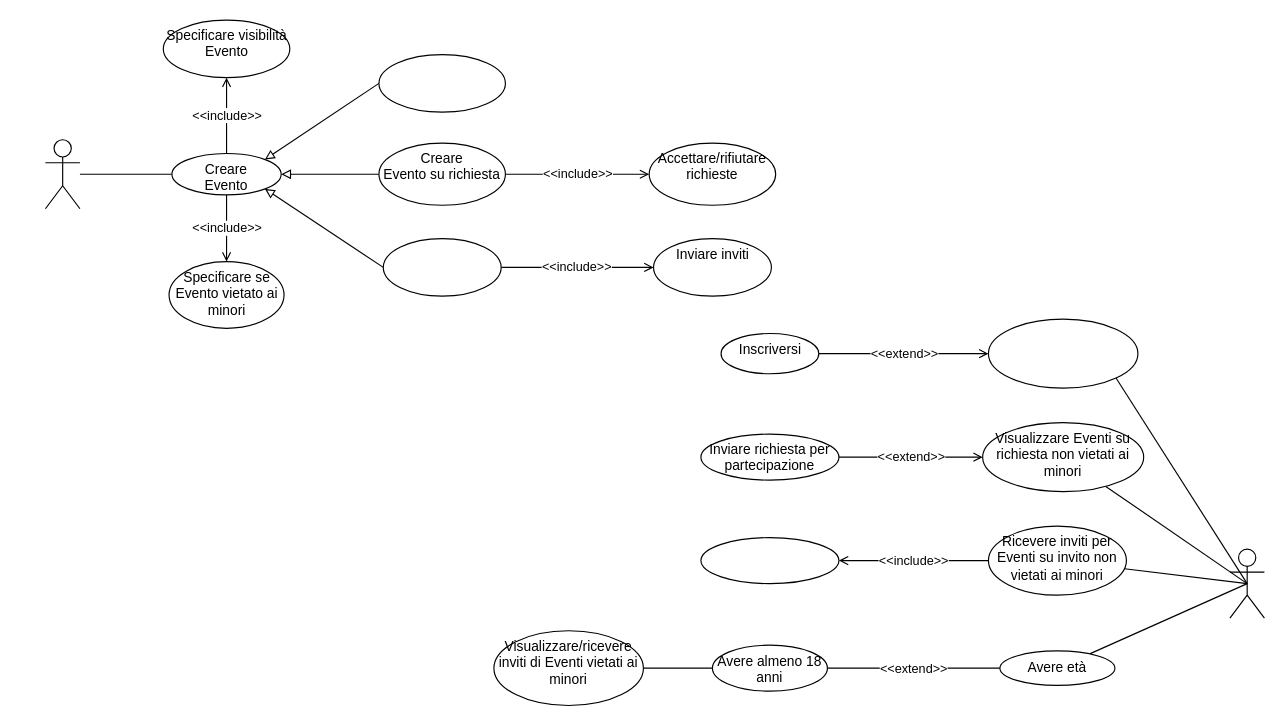
This 1287x726 diagram has some shape labels left out. The shapes that lost their labels are listed below. From the top down, each one's centre as x and y in pixels, then its label:
(441,82): Creare Evento pubblico
(62,174): Organizzatore
(441,266): Creare Evento su invito
(1062,353): Visualizzare Eventi pubblici non vietati ai minori
(769,560): Accettare/rifiutare inviti
(1246,583): Utente
